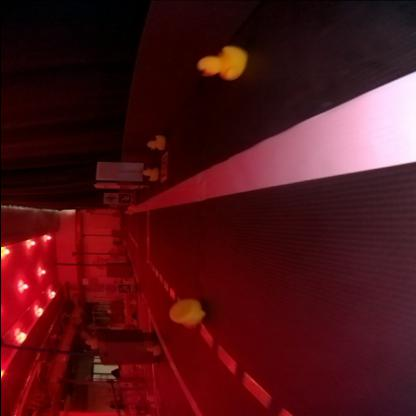Duckie: (194, 46, 245, 78), (168, 299, 201, 329), (145, 137, 162, 151), (141, 168, 157, 180)
QR code: (158, 154, 166, 182)
